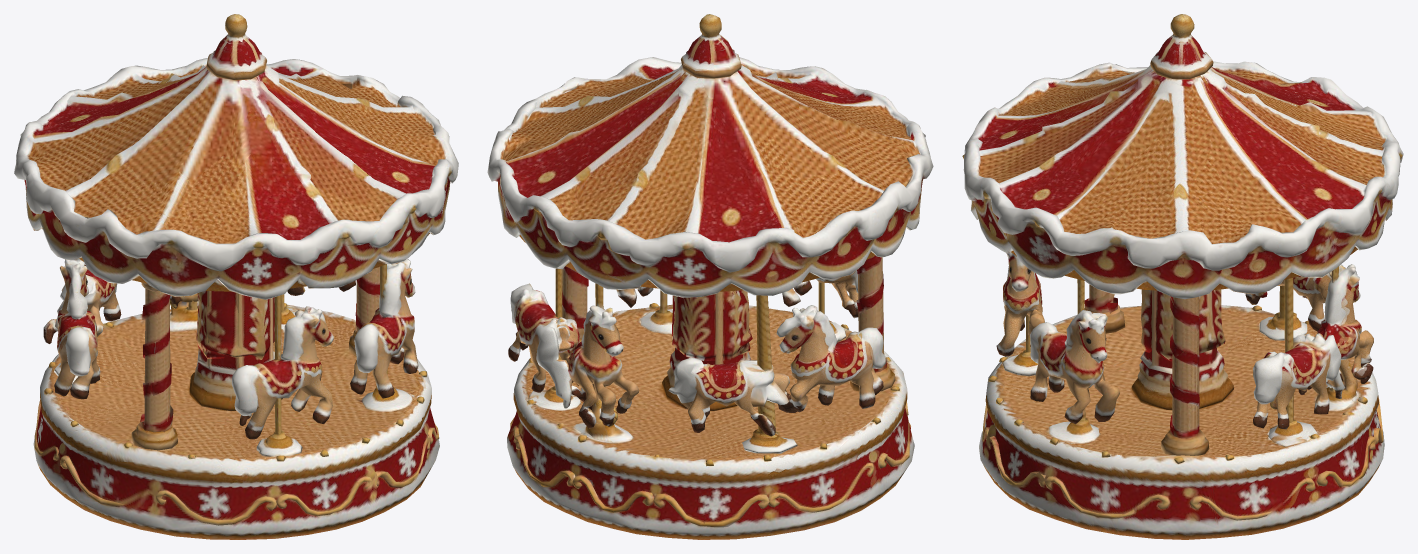
File: AW-XMAS-CAROUSEL-001-v0.2.glb
3 views of the same model, side by side, from view 1: azimuth 30°, elevation 25°; view 2: azimuth 150°, elevation 25°; view 3: azimuth 270°, elevation 25° (orthographic).
Parts seen in each view (by area): view 1: AW-XMAS-CAROUSEL-001_meter_ground_pivot; view 2: AW-XMAS-CAROUSEL-001_meter_ground_pivot; view 3: AW-XMAS-CAROUSEL-001_meter_ground_pivot.
Part boxes in pixels (x1,y1,x2,y2): AW-XMAS-CAROUSEL-001_meter_ground_pivot: [14, 14, 458, 539]; AW-XMAS-CAROUSEL-001_meter_ground_pivot: [487, 14, 933, 539]; AW-XMAS-CAROUSEL-001_meter_ground_pivot: [962, 14, 1403, 539].
Bounding box in the file's own units: 8.96 × 10 × 9.05.
Materials: 1 (1 with a texture image).
